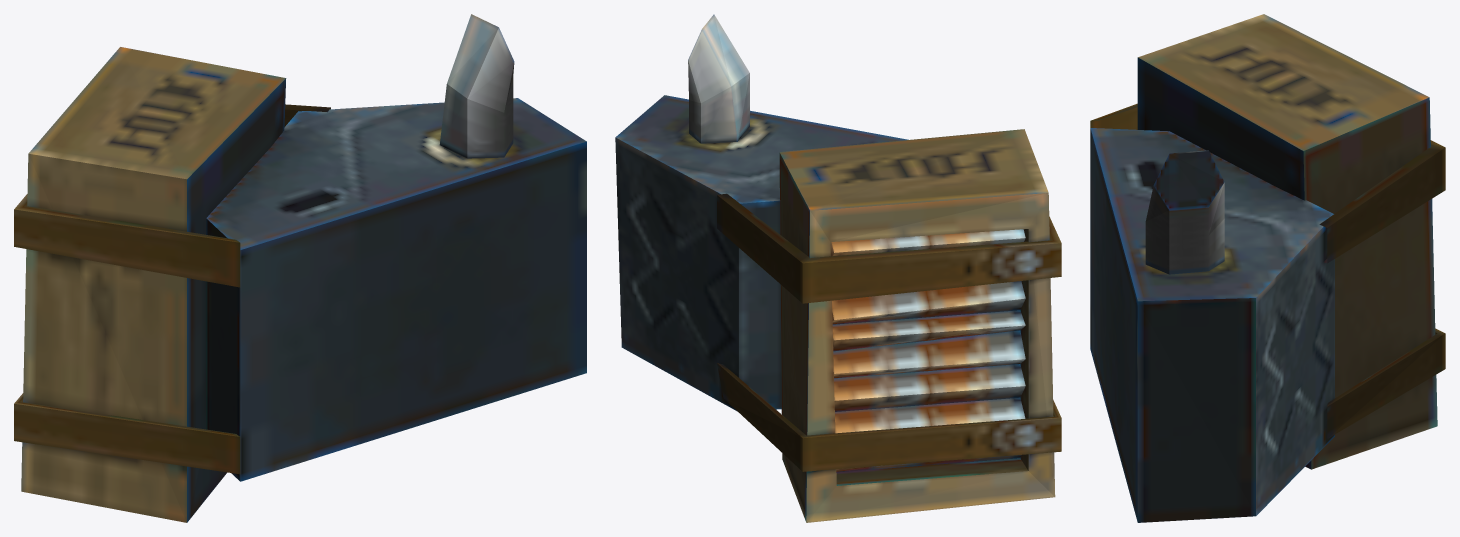
File: XCHAINBPACK.obj
3 views of the same model, side by side, from view 1: azimuth 30°, elevation 25°; view 2: azimuth 150°, elevation 25°; view 3: azimuth 270°, elevation 25° (orthographic). The views are drawn at different scales.
Parts seen in each view (by area): view 1: Node 0; view 2: Node 0; view 3: Node 0.
Boxes of the visible parts, x1,y1,x2,y2 form: Node 0: (14, 14, 586, 522); Node 0: (615, 14, 1061, 522); Node 0: (1090, 14, 1445, 522).
Bounding box in the file's own units: 0.71 × 0.54 × 0.45.
Materials: 1 (1 with a texture image).
